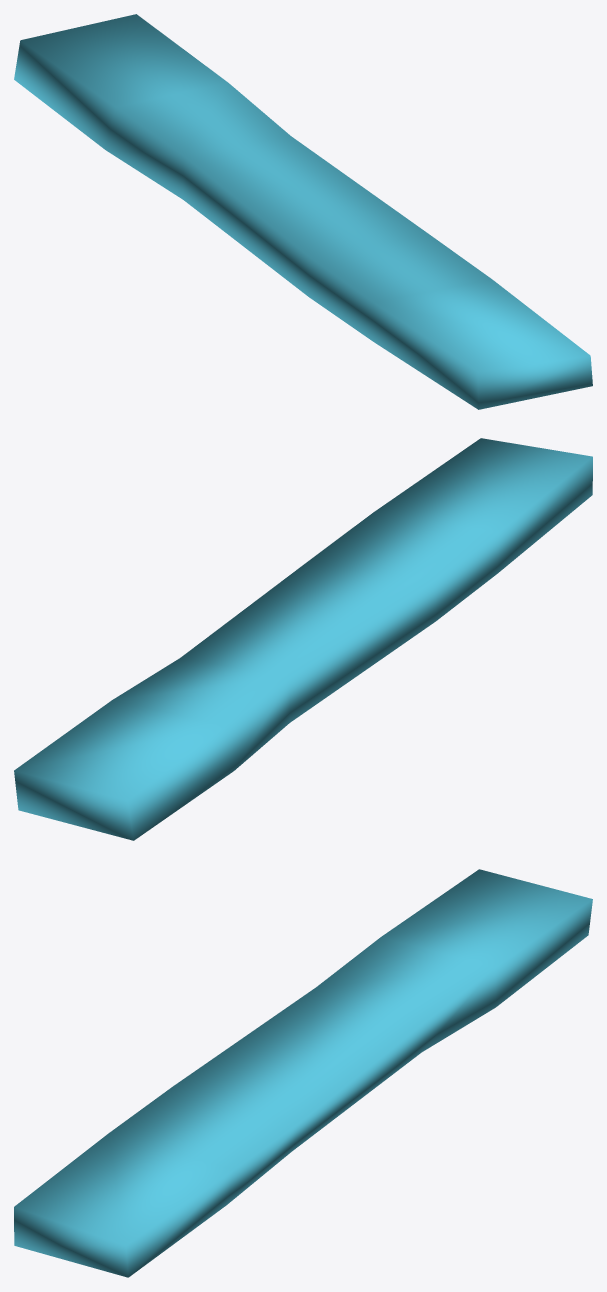
The model's file is wall_elem_03.FBX.
The picture shows the model from 3 angles, top to bottom: view 1: azimuth 30°, elevation 25°; view 2: azimuth 150°, elevation 25°; view 3: azimuth 330°, elevation 25°; orthographic projection.
Parts seen in each view (by area): view 1: wall_elem_03; view 2: wall_elem_03; view 3: wall_elem_03.
Boxes of the visible parts, x1,y1,x2,y2 form: wall_elem_03: (14, 14, 592, 409); wall_elem_03: (14, 438, 592, 840); wall_elem_03: (14, 869, 592, 1277).
Size of the model in its own units: 18.27 by 6.36 by 116.
